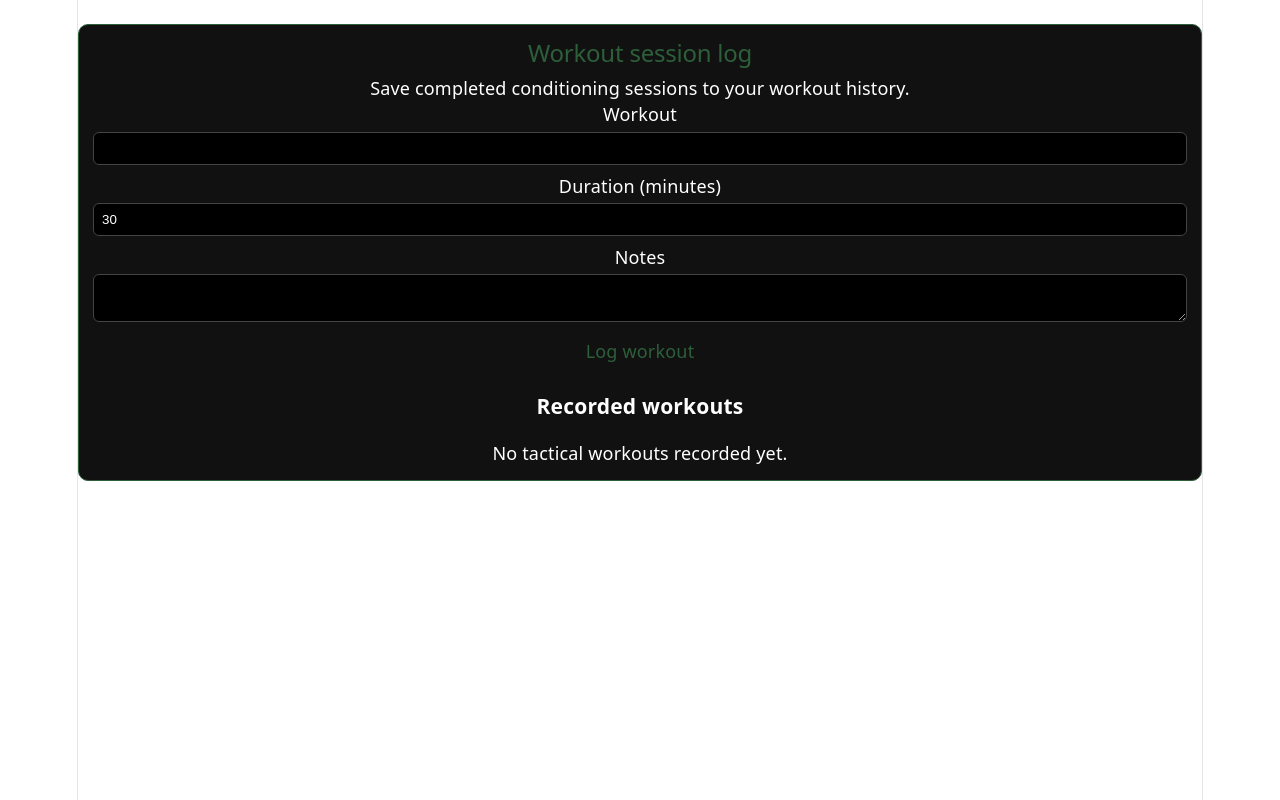
it: TacticalWorkoutLog › writes completed sessions into authenticated workout history
Check: the text "No tactical workouts recorded yet." is shown, box [492, 441, 788, 465]
Type "Ruck" into the field labelled "Workout" at (640, 148), box [93, 132, 1187, 164]
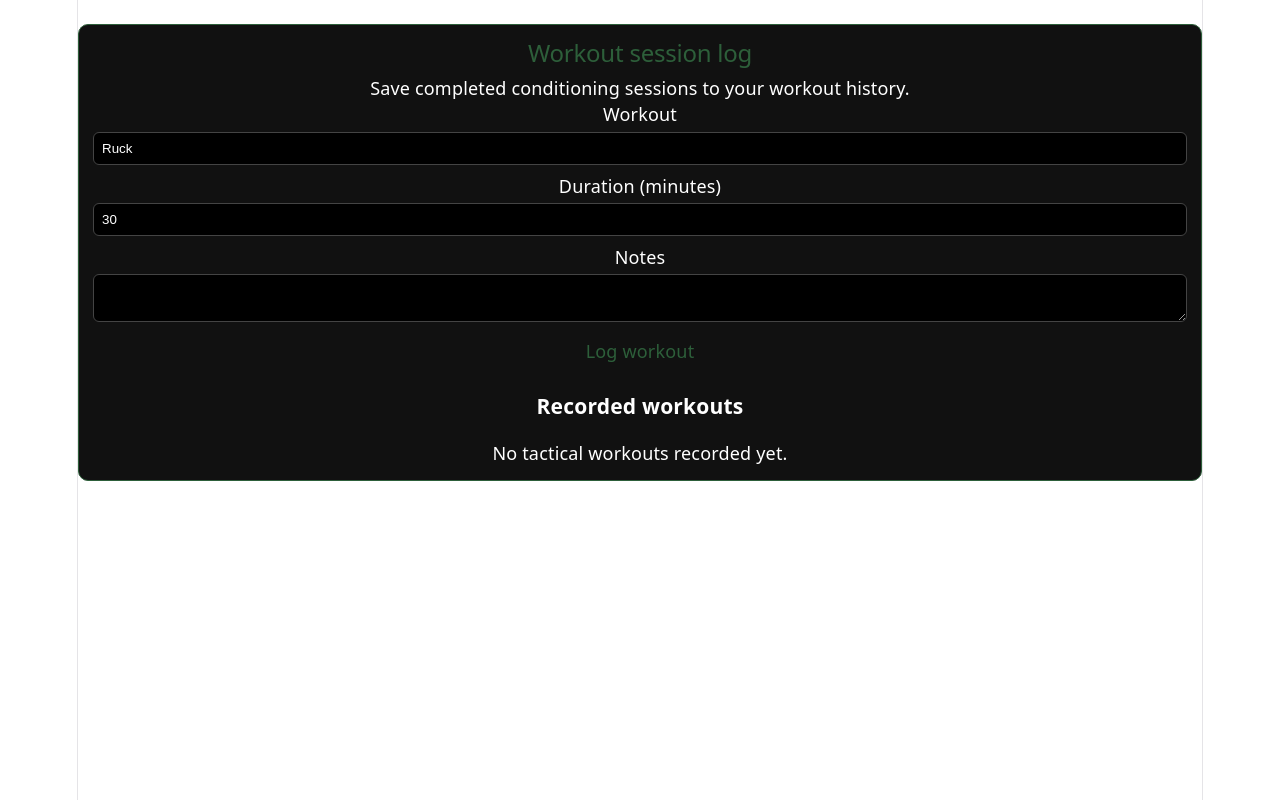
Replace the text in the number field labelled "Duration (minutes)" with "35" at (640, 219), box [93, 203, 1187, 236]
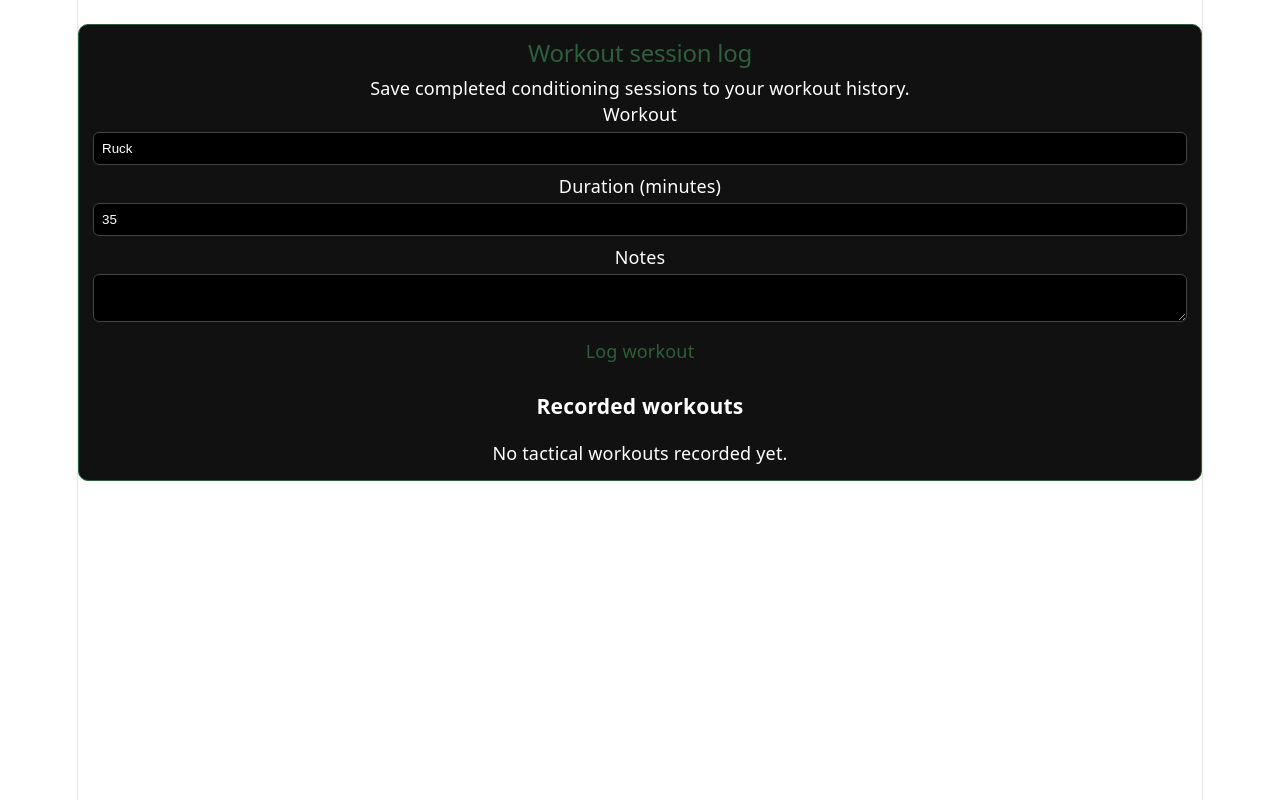
Click the button "Log workout" at (640, 351), box [586, 339, 694, 363]
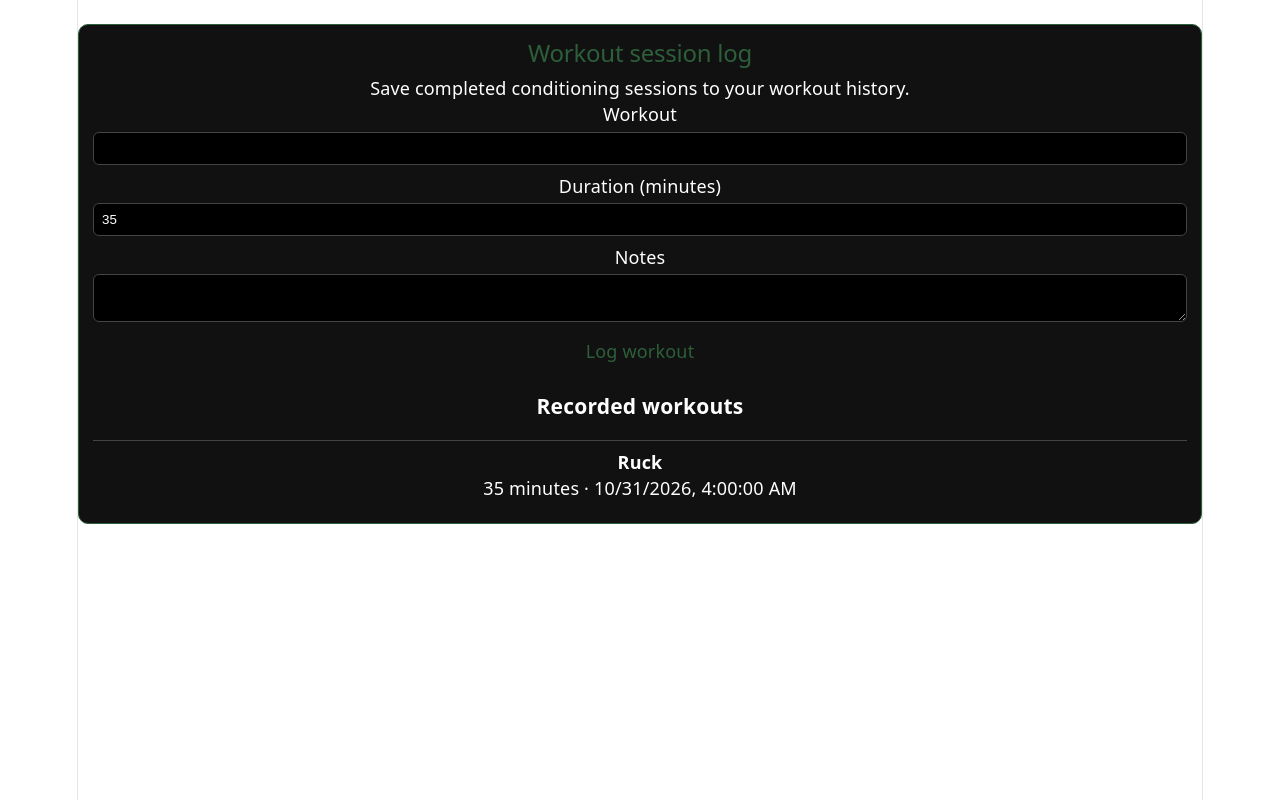
Check: the text "Ruck" is shown, box [618, 450, 662, 474]
